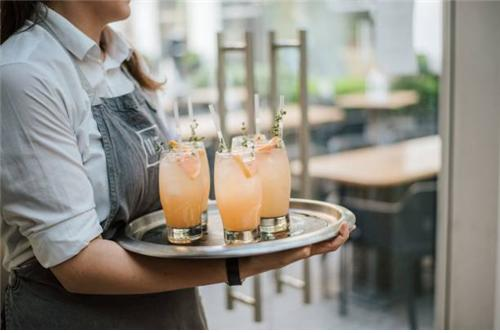alcohol: (234, 135, 294, 234), (158, 142, 210, 242), (215, 144, 263, 244)
